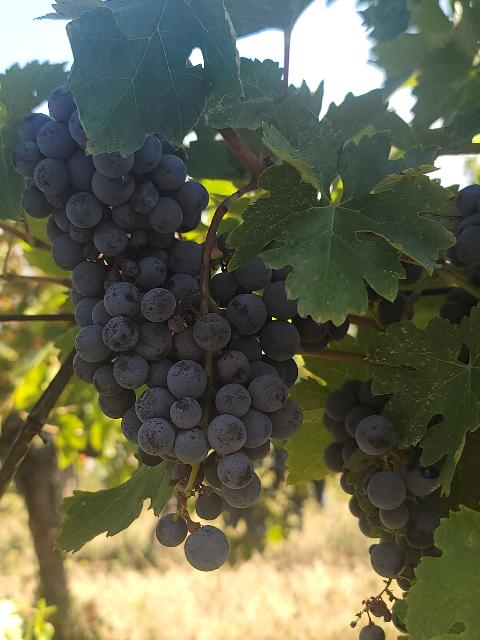grapes: (11, 86, 208, 418), (135, 236, 311, 570)
